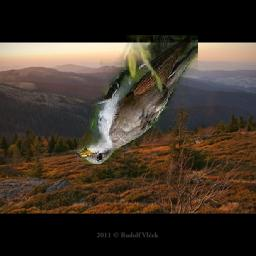Cuckoo: (78, 36, 199, 165)
